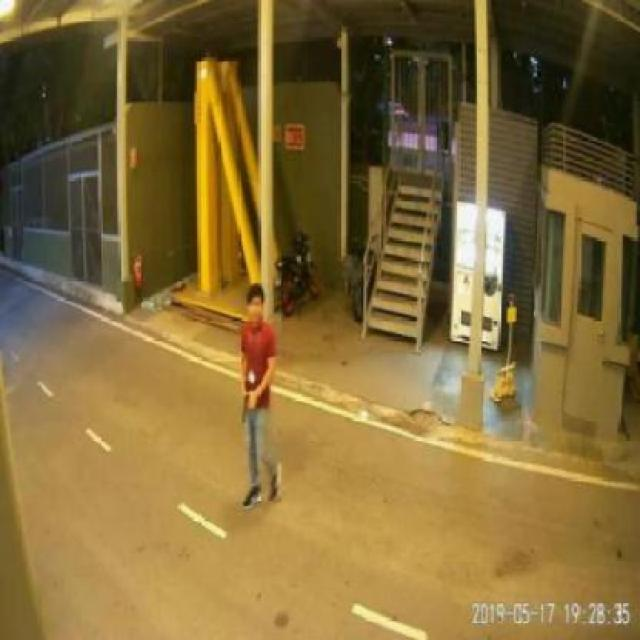gun: (238, 393, 254, 421)
